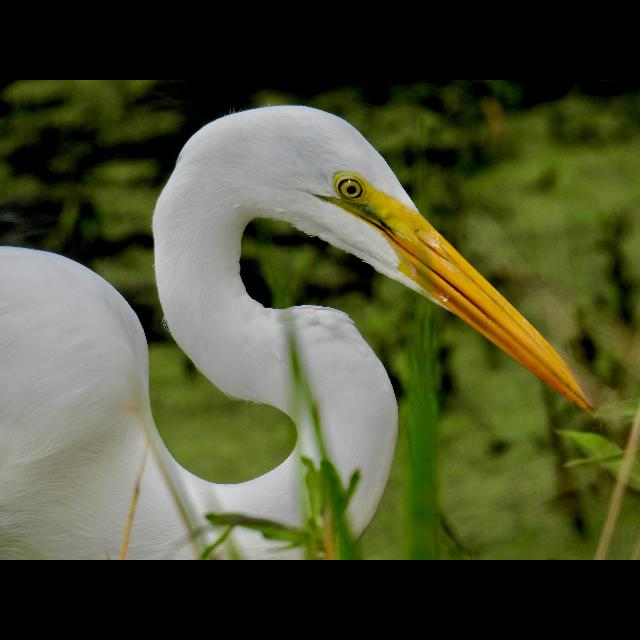egret: (1, 104, 610, 560)
